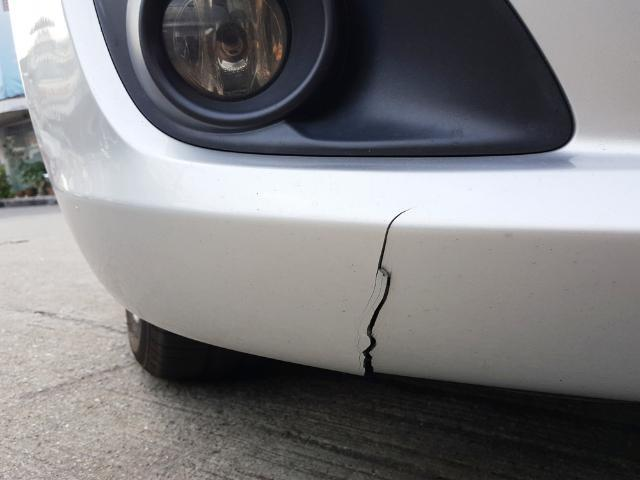crack: (362, 205, 416, 375)
